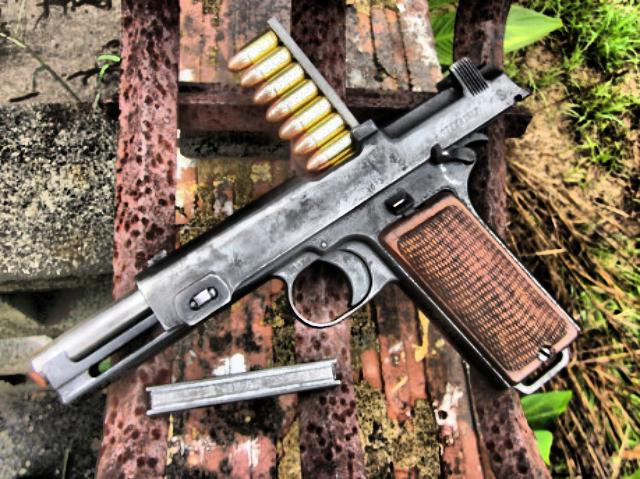pistol: (30, 51, 584, 403)
